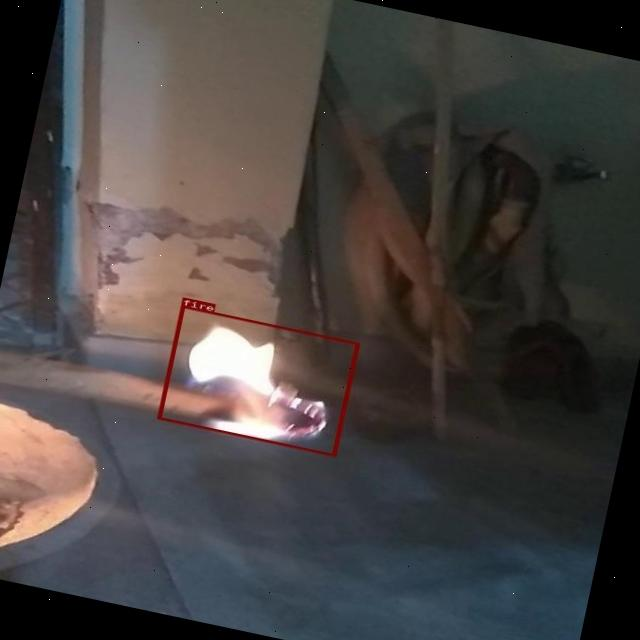fire: (156, 304, 358, 456)
